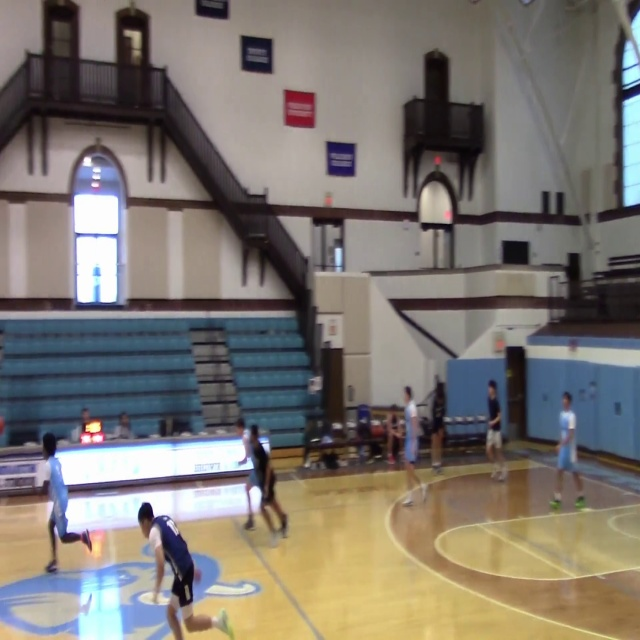Basketball: (193, 568, 202, 583)
